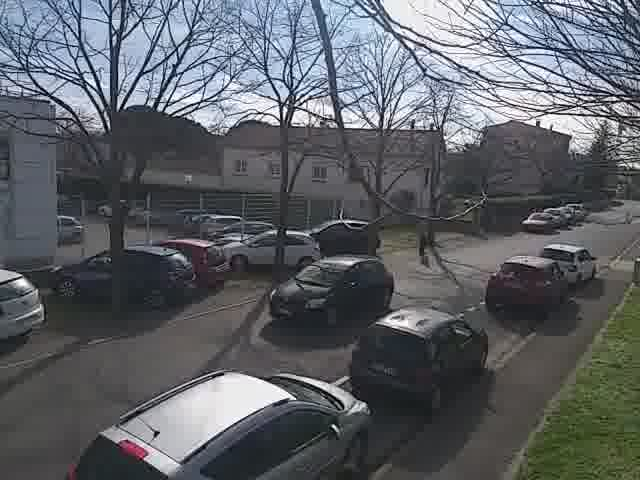persona: (414, 209, 434, 260)
